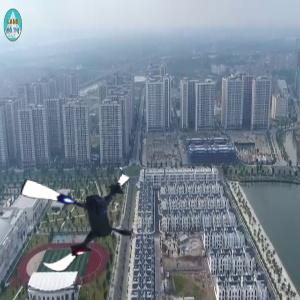drone: (15, 156, 144, 285)
